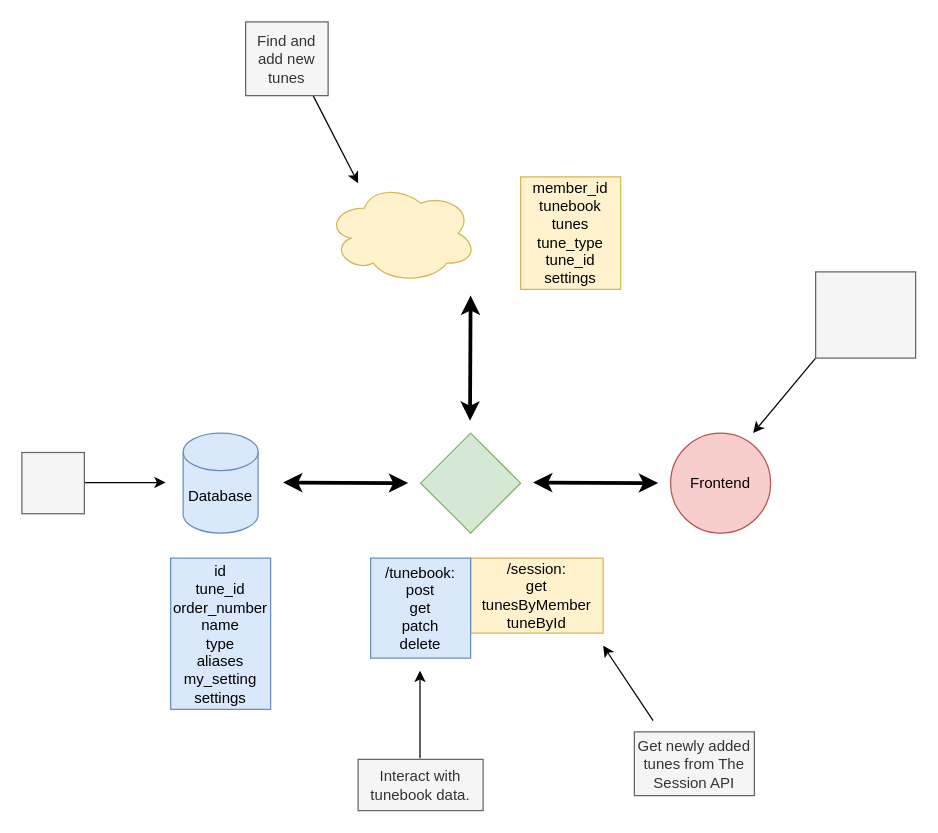
Image size: 938x833. Some labels were removed from this diagram. The shapes that lost their labels are listed below. From the top down, each one's box as (x1, y1, x2, y2) in pixels, then its label:
(326, 182, 477, 283): The Session
(814, 271, 916, 358): Display and manipulate /tunebook data
(21, 451, 84, 514): Source of tune truth
(419, 432, 521, 533): Server
